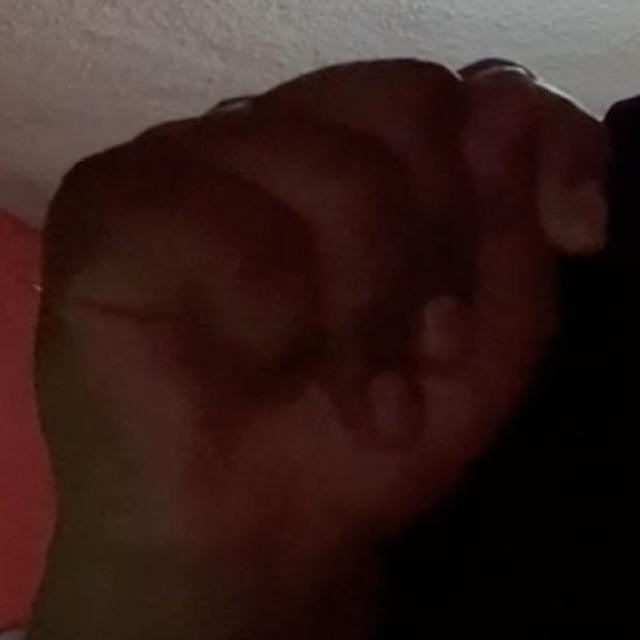T: (25, 43, 616, 580)
